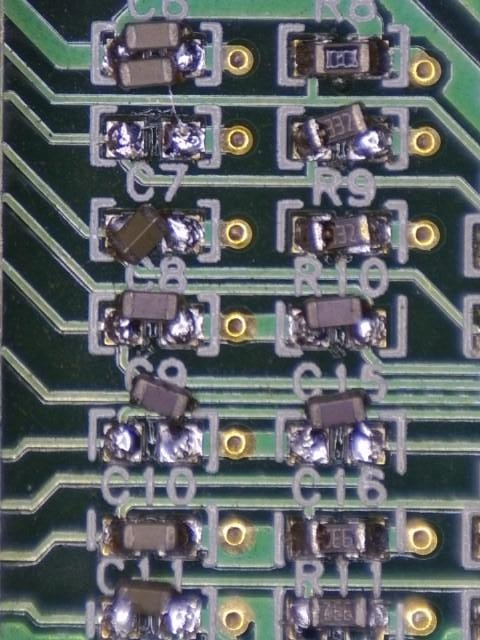pcb_defect: (103, 374, 202, 464), (288, 389, 385, 465), (105, 21, 200, 89), (101, 578, 202, 640), (105, 202, 202, 266), (104, 290, 204, 349), (291, 103, 391, 161), (289, 295, 387, 349), (285, 597, 388, 640), (290, 212, 389, 255)
